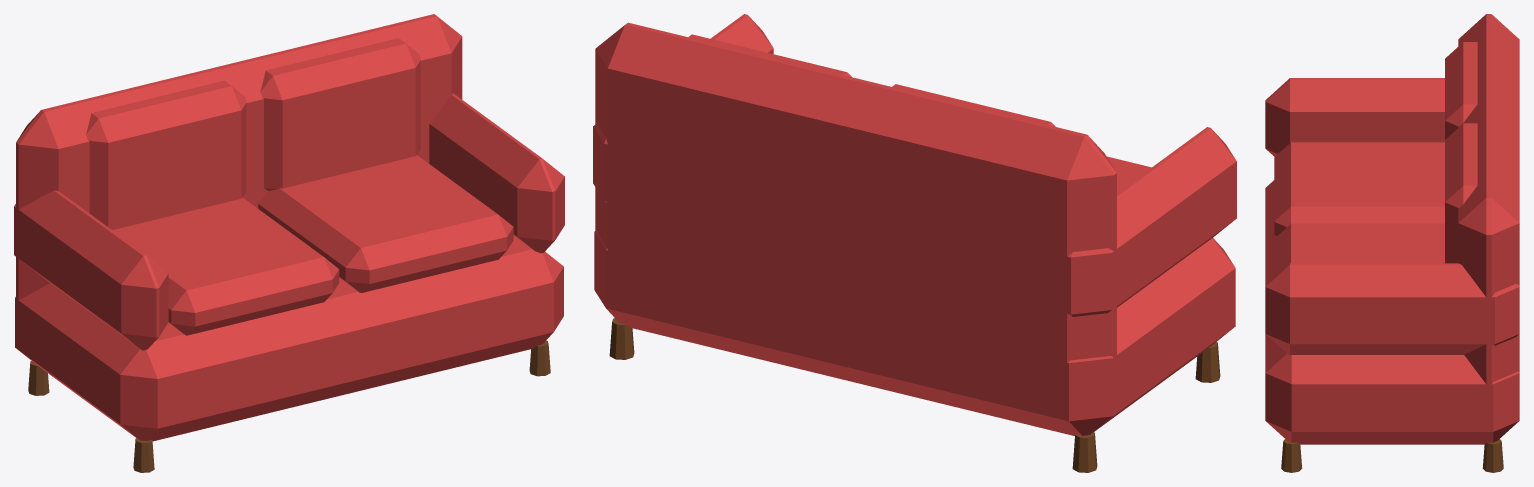
The model's file is RedSofa.fbx.
The picture shows the model from 3 angles, left to right: view 1: azimuth 30°, elevation 25°; view 2: azimuth 150°, elevation 25°; view 3: azimuth 270°, elevation 25°; orthographic projection. The views are drawn at different scales.
Visible parts, largest first — view 1: RedSofa; view 2: RedSofa; view 3: RedSofa.
Part boxes in pixels (x1=…): RedSofa: x1=14, y1=14, x2=564, y2=472; RedSofa: x1=593, y1=14, x2=1236, y2=472; RedSofa: x1=1265, y1=14, x2=1519, y2=472.
Size of the model in its own units: 5.6 by 3.4 by 2.9.
Materials: 1 (1 with a texture image).
